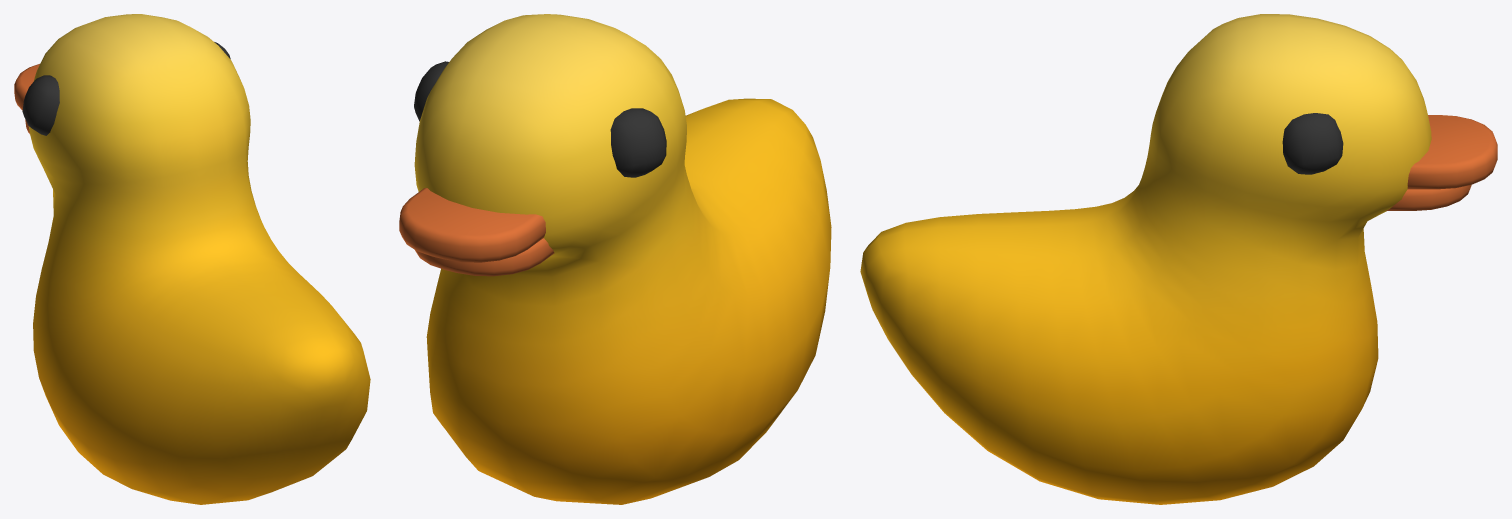
The model's file is Duck.fbx.
3 views of the same model, side by side, from view 1: azimuth 30°, elevation 25°; view 2: azimuth 150°, elevation 25°; view 3: azimuth 270°, elevation 25° (orthographic). The views are drawn at different scales.
Parts seen in each view (by area): view 1: Cube.026, Cube.029, Cube.028; view 2: Cube.026, Cube.028, Cube.029; view 3: Cube.026, Cube.028, Cube.029.
Part boxes in pixels (<box>): Cube.026: <box>28,14,370,504</box>; Cube.029: <box>22,42,230,135</box>; Cube.028: <box>14,64,39,133</box>; Cube.026: <box>414,14,831,504</box>; Cube.028: <box>399,188,554,276</box>; Cube.029: <box>414,61,666,177</box>; Cube.026: <box>860,14,1431,504</box>; Cube.028: <box>1386,115,1497,210</box>; Cube.029: <box>1282,113,1343,174</box>.
Size of the model in its own units: 1.55 by 2.5 by 3.15.
